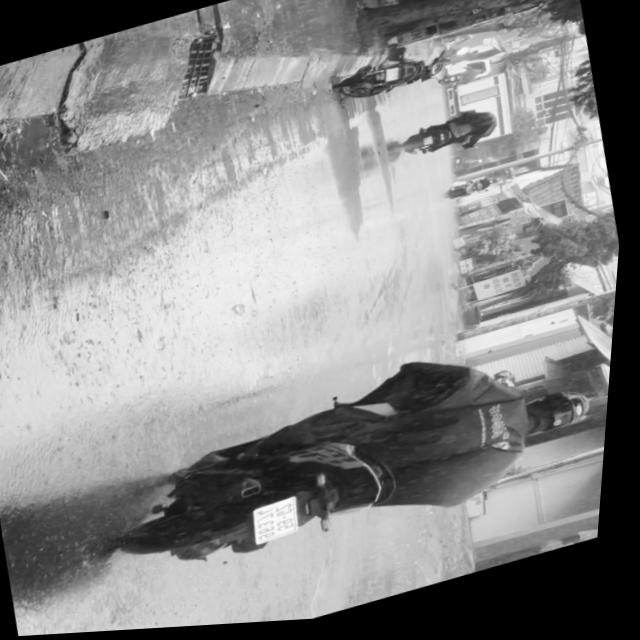helmet: (527, 388, 605, 447)
licenseplate: (97, 320, 620, 606)
nohelmet: (259, 500, 311, 547), (386, 70, 404, 87)
